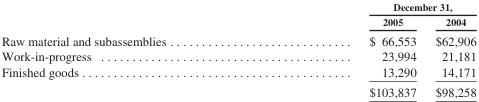table: (0, 0, 475, 98)
table column: (0, 0, 266, 98), (266, 0, 425, 98), (425, 0, 475, 98)
table column header: (0, 0, 475, 30)
table row: (0, 30, 475, 48), (0, 63, 475, 81), (0, 13, 475, 30), (0, 81, 475, 98), (0, 48, 475, 63), (0, 0, 475, 13)
table spanning cell: (266, 0, 475, 13)
